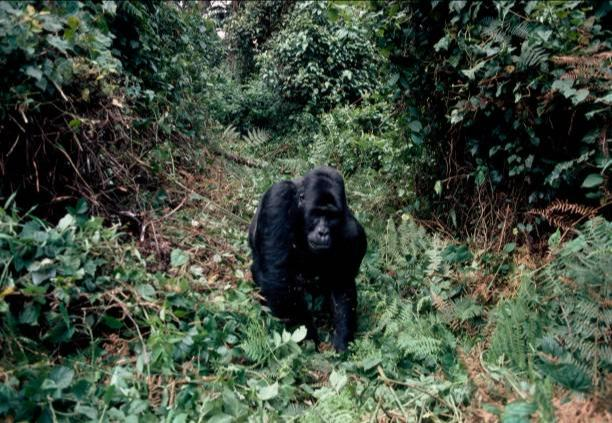goriile_montagne: (226, 171, 390, 353)
